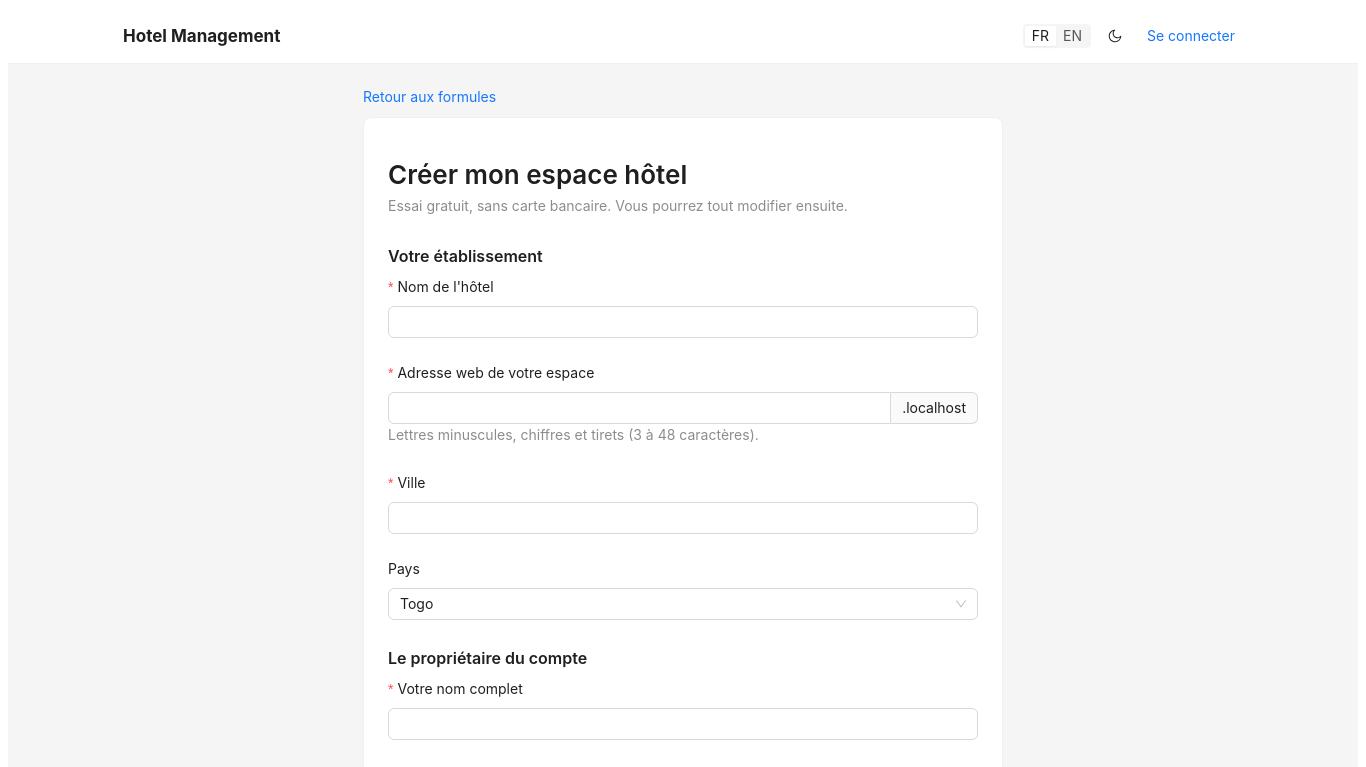
Scenario: signup form validation › derives the web address from the hotel name until it is edited
Later steps or results of the test are not shown.
Type "Hôtel du Lac" into the field labelled "Nom de l'hôtel". click: (683, 322)
box: top-left (388, 306), bottom-right (978, 338)
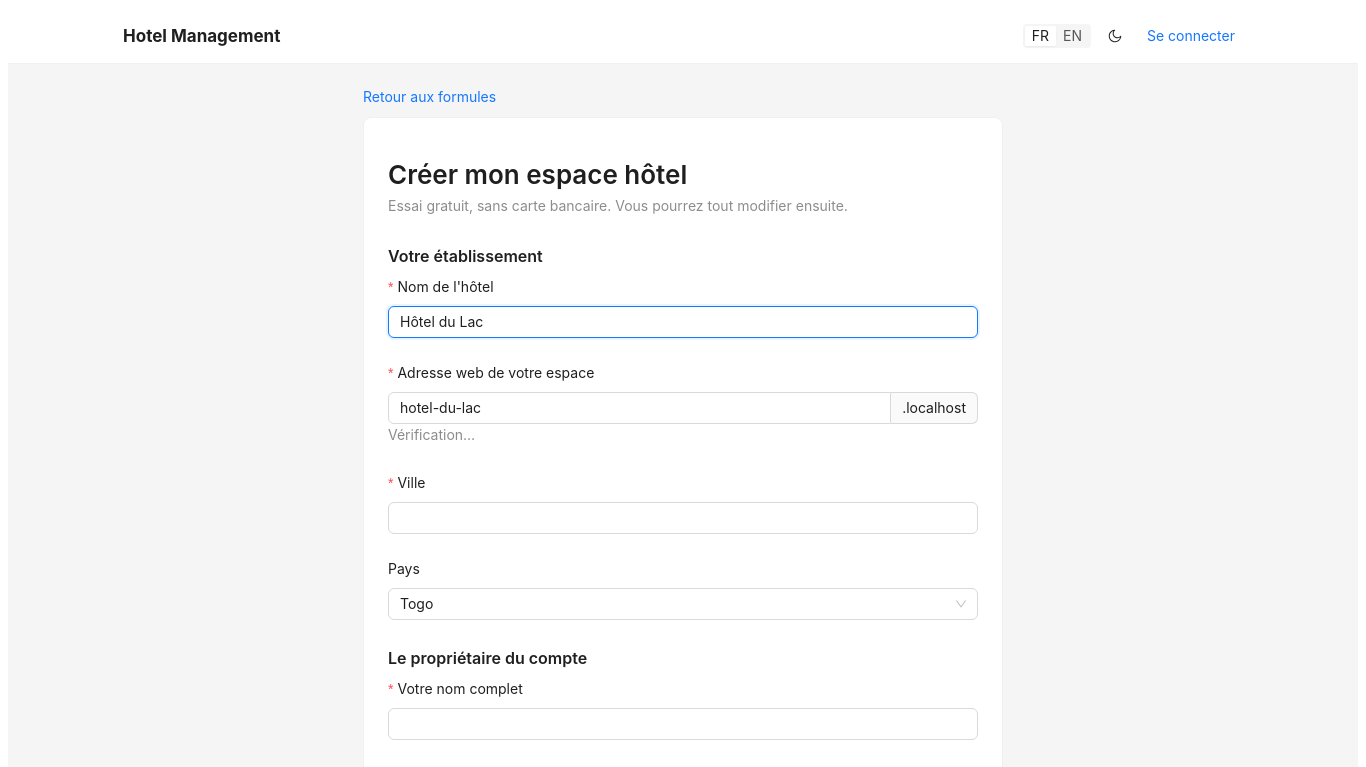
Expected: the field labelled "Adresse web de votre espace" holds "hotel-du-lac", top-left (388, 392), bottom-right (891, 424)
